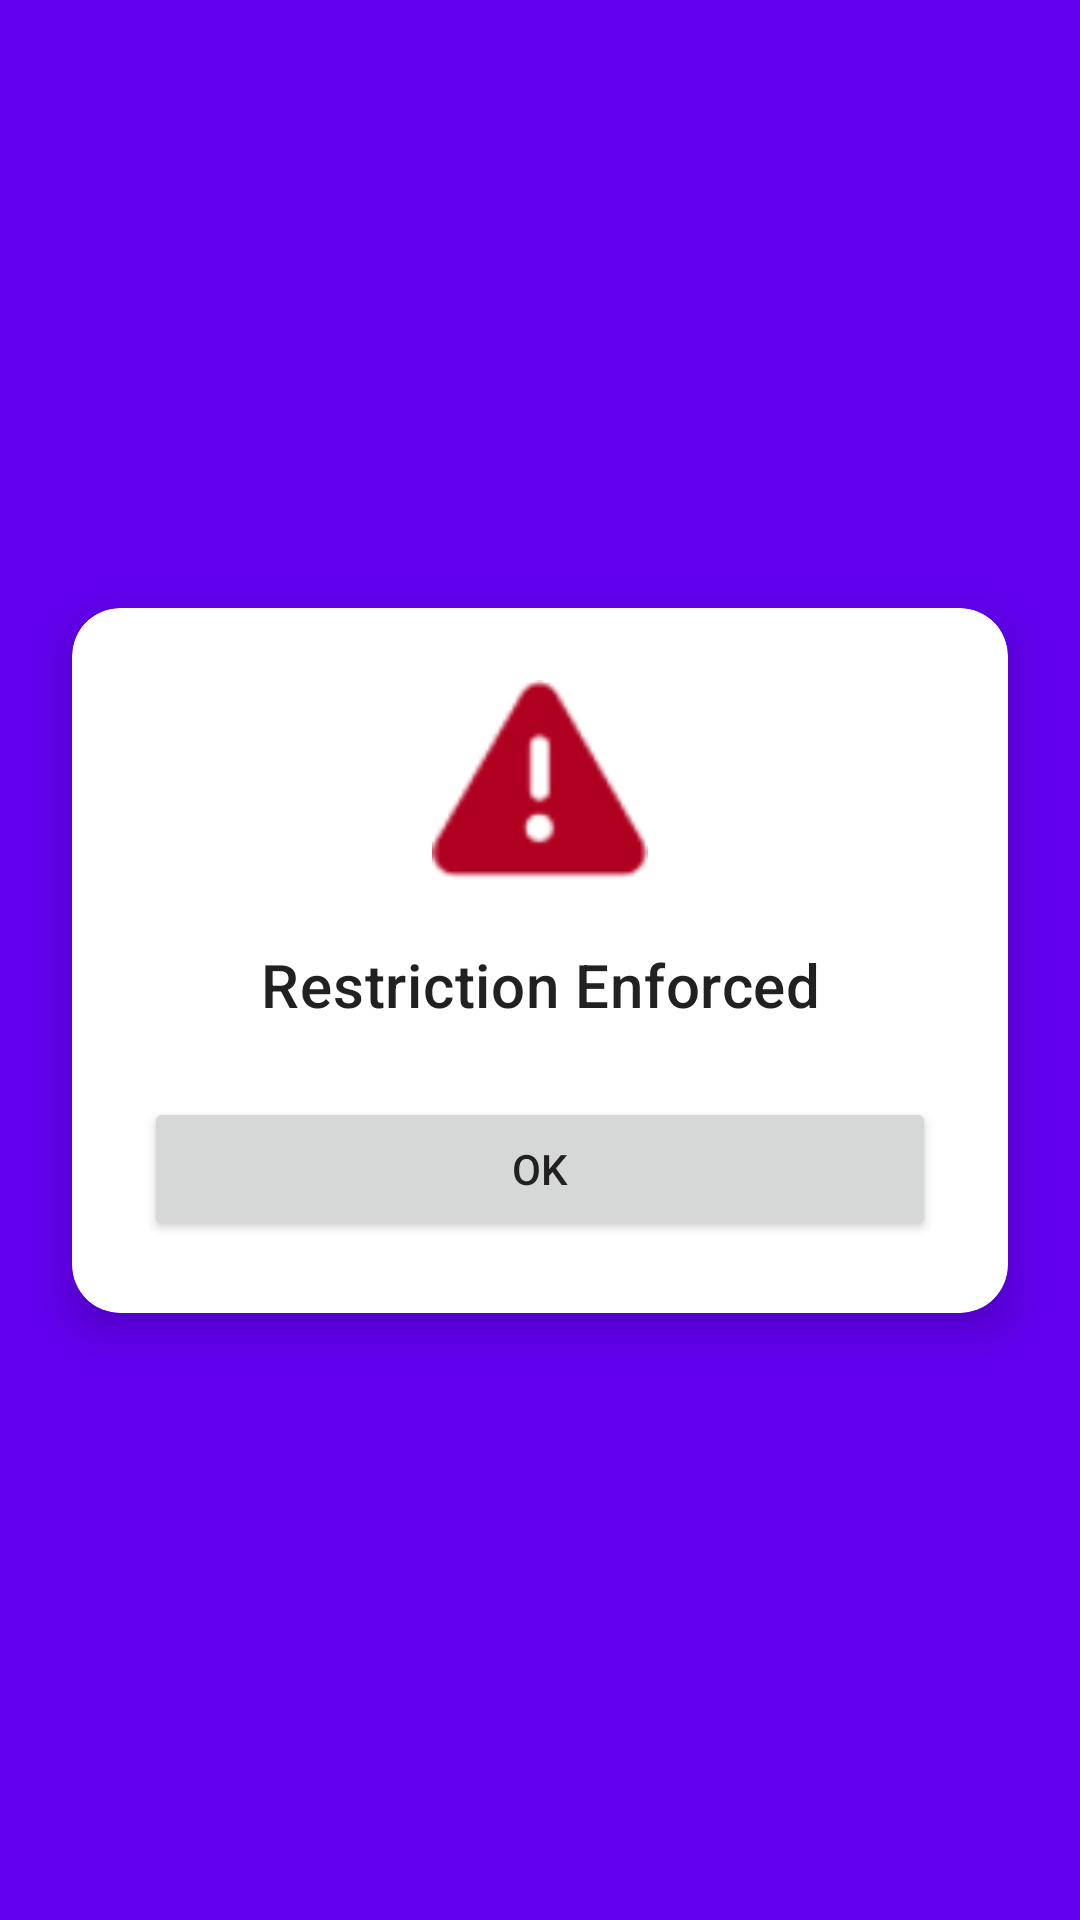

Locate icon controls on the screen. Image size 1080px×1920px, boxes as {"left": x1, "top": y1, "right": x2, "bottom": y2}.
alert: {"left": 432, "top": 680, "right": 648, "bottom": 877}
